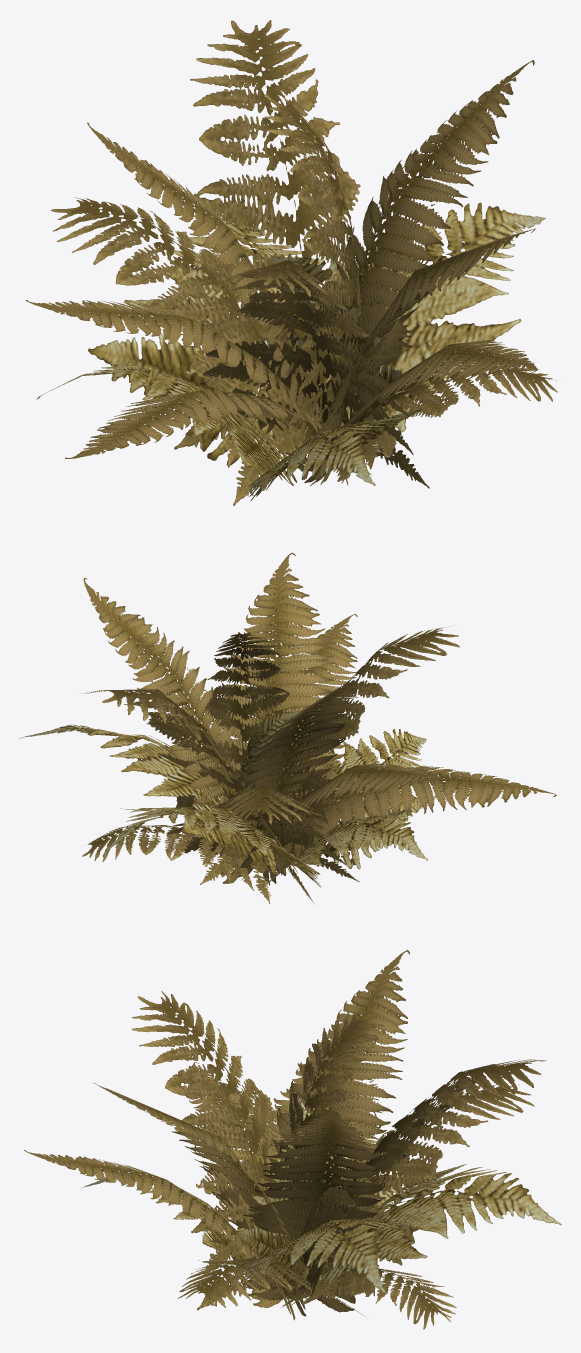
File: Lobby_Plant.fbx
3 renders of one model, top to bottom at view 1: azimuth 30°, elevation 25°; view 2: azimuth 150°, elevation 25°; view 3: azimuth 270°, elevation 25°, orthographic. The views are drawn at different scales.
Visible parts, largest first — view 1: SM_Lobby_PlantFern01.mo; view 2: SM_Lobby_PlantFern01.mo; view 3: SM_Lobby_PlantFern01.mo.
Boxes of the visible parts, <box> form: SM_Lobby_PlantFern01.mo: <box>25,20,557,505</box>; SM_Lobby_PlantFern01.mo: <box>19,552,556,904</box>; SM_Lobby_PlantFern01.mo: <box>24,950,561,1329</box>.
Size of the model in its own units: 217 by 122 by 204.
